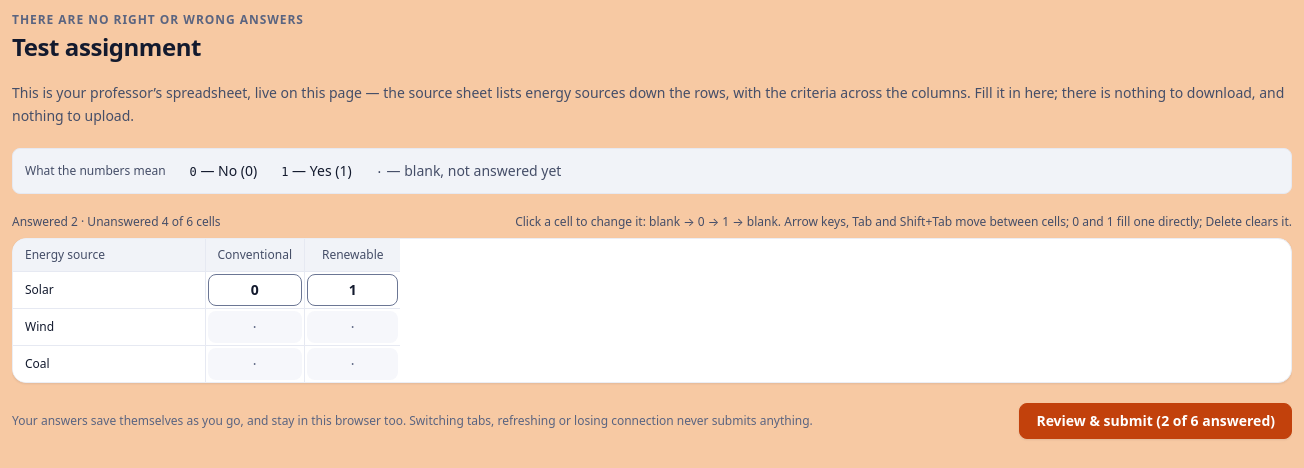
Test: review step › counts answered and unanswered cells and lists the blank ones
Click the button "Review & submit (2 of 6 answered)" at {"x": 1156, "y": 420}, box x1=1019 y1=402 x2=1292 y2=438
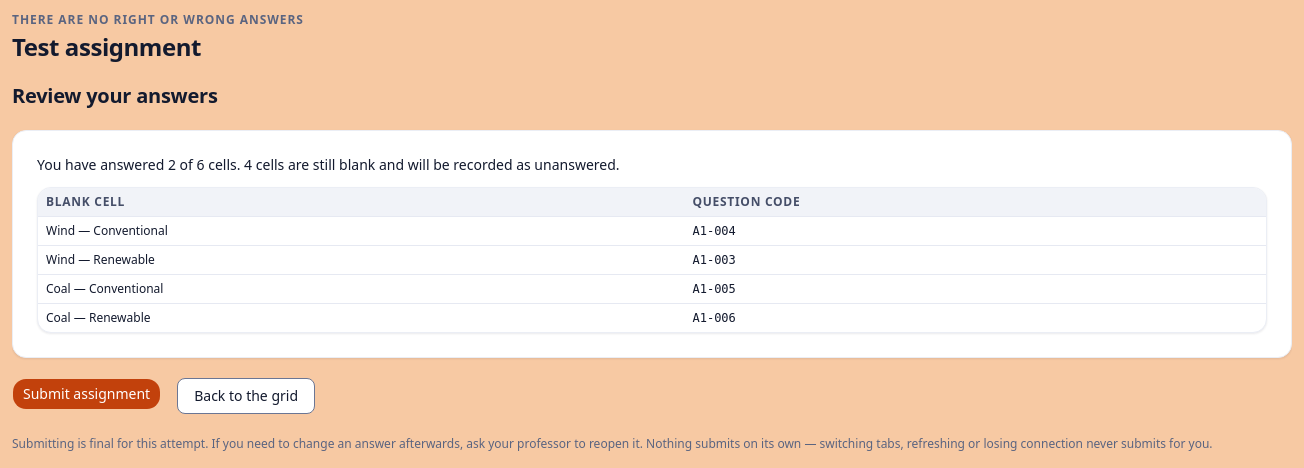
Check: the text "You have answered" shows "2", box x1=168 y1=154 x2=176 y2=174
Check: the text "You have answered" shows "6", box x1=196 y1=154 x2=204 y2=174
Check: the text "You have answered" shows "4", box x1=244 y1=154 x2=252 y2=174
